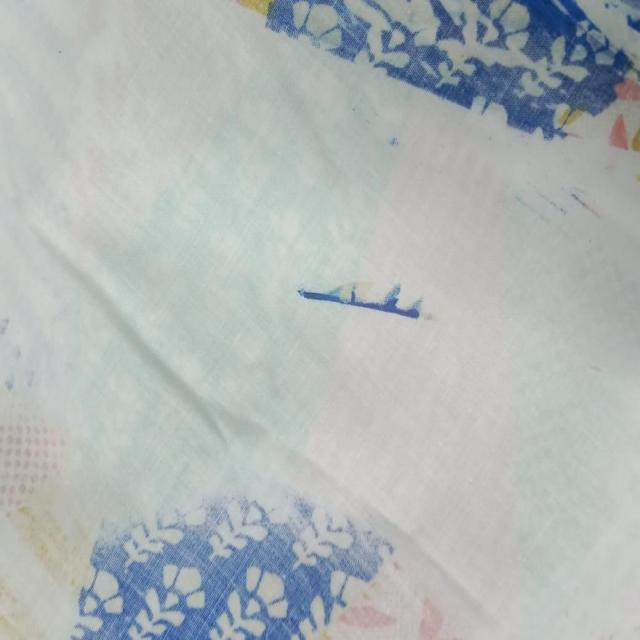color issues: (9, 4, 363, 625), (367, 64, 640, 640)
